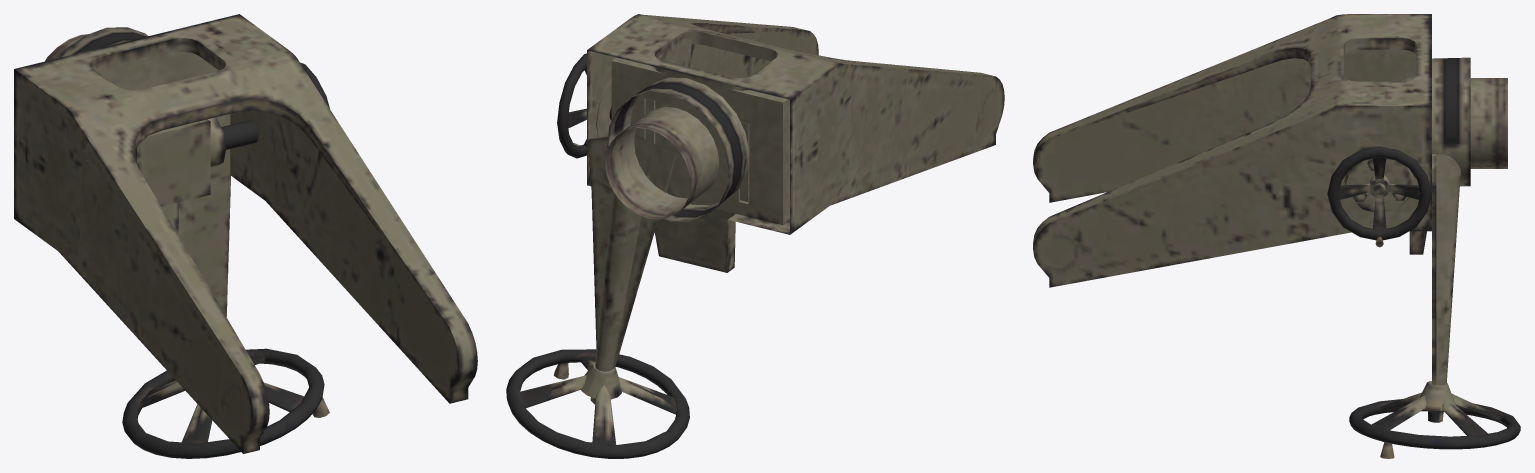
File: Turret_01.glb
3 views of the same model, side by side, from view 1: azimuth 30°, elevation 25°; view 2: azimuth 150°, elevation 25°; view 3: azimuth 270°, elevation 25° (orthographic). The views are drawn at different scales.
Parts seen in each view (by area): view 1: set_0_group_0; view 2: set_0_group_0; view 3: set_0_group_0.
Boxes of the visible parts, x1,y1,x2,y2 form: set_0_group_0: (14,14,477,458); set_0_group_0: (506,14,1004,458); set_0_group_0: (1033,14,1520,458).
Bounding box in the file's own units: 0.5045 × 0.6654 × 0.854.
Materials: 1 (1 with a texture image).
